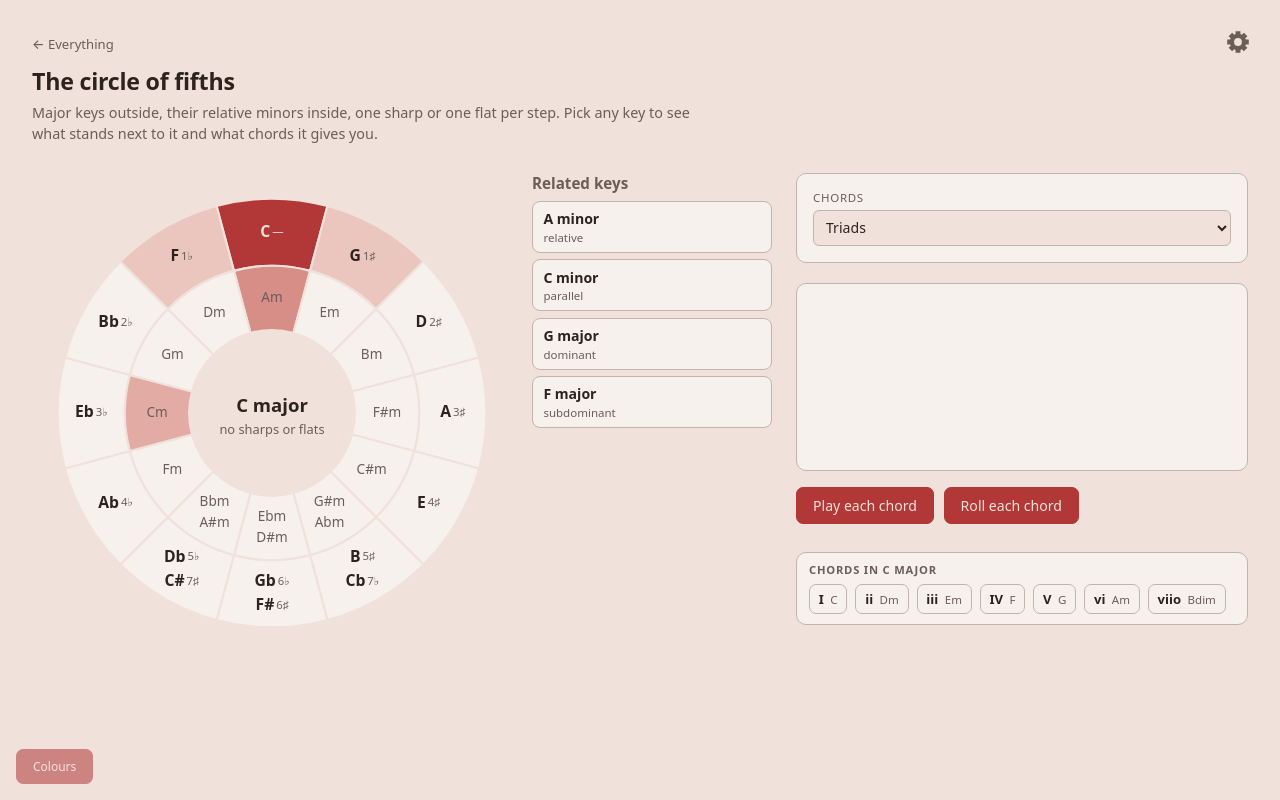
Test: settings over a running exercise › shows no cog on the settings page itself, and none while the layer is up
What coordinates should you click on to do the following:
click the button with class "app-cog"
I would click on:
 (1238, 42)
Its box is [1212,16,1264,68].
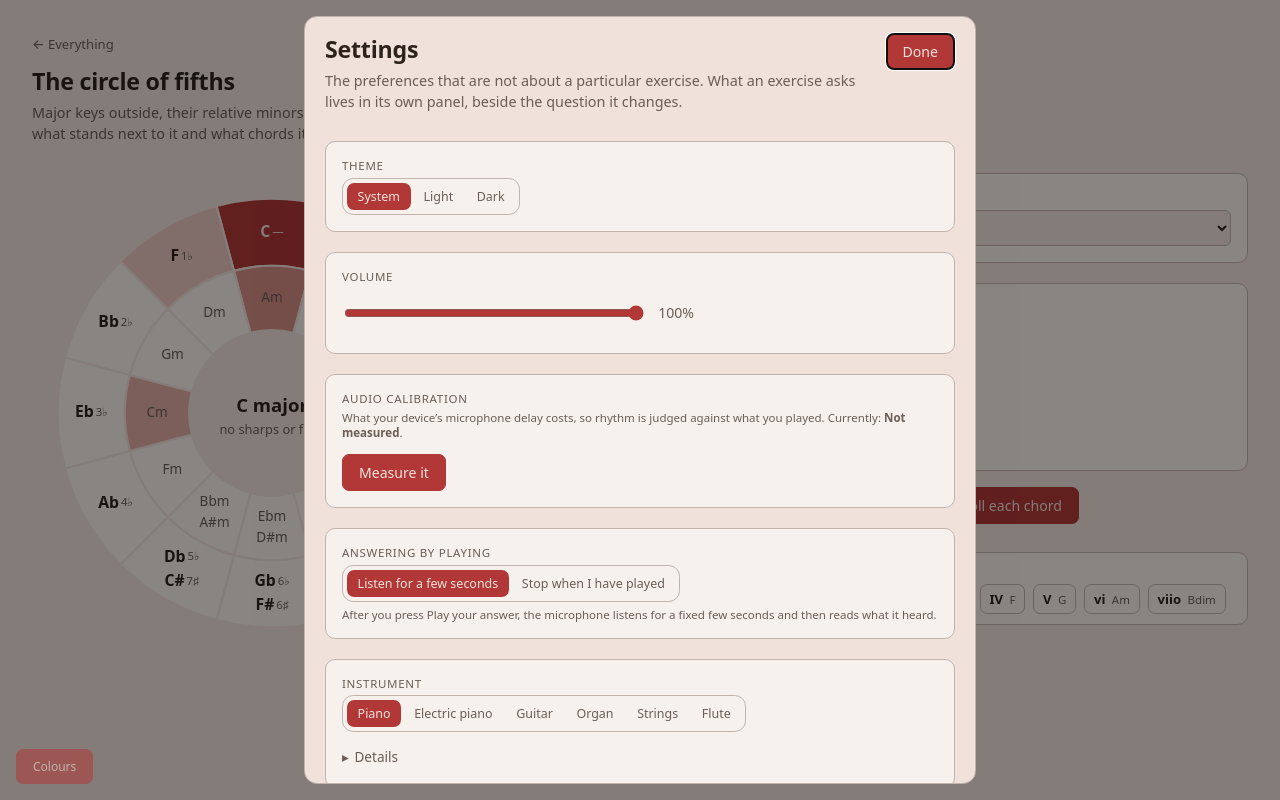
Result: the dialog is shown
Result: the button with class "app-cog" is gone
